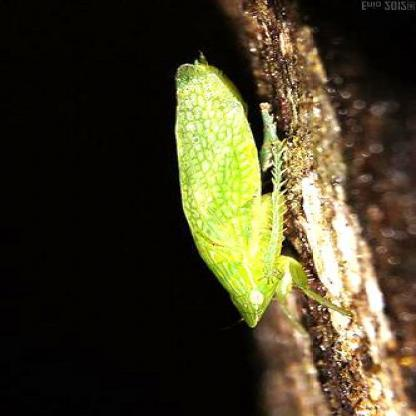green-leafhopper: (169, 57, 334, 327)
